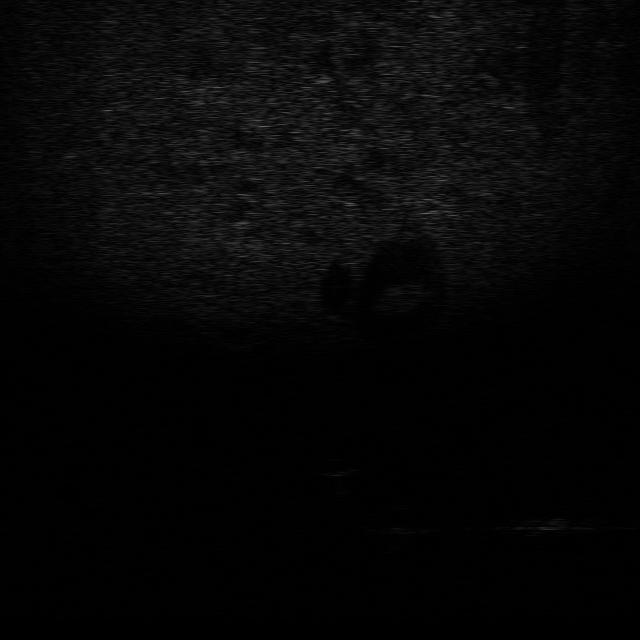ball: (310, 454, 361, 479)
metal bucket: (504, 510, 594, 536)
tyre: (361, 502, 440, 536)
